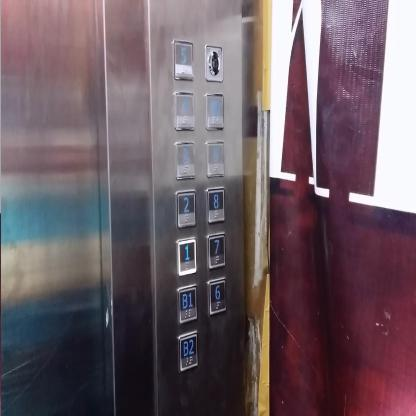1: (176, 235, 197, 278)
2: (174, 187, 197, 230)
3: (174, 139, 196, 182)
4: (172, 89, 196, 132)
5: (170, 38, 194, 82)
6: (205, 275, 227, 318)
7: (205, 230, 227, 272)
8: (204, 184, 226, 227)
B1: (175, 281, 199, 327)
B2: (176, 328, 200, 375)
blur: (202, 90, 225, 133), (204, 138, 226, 180)
bt_keyhole: (201, 41, 225, 85)
